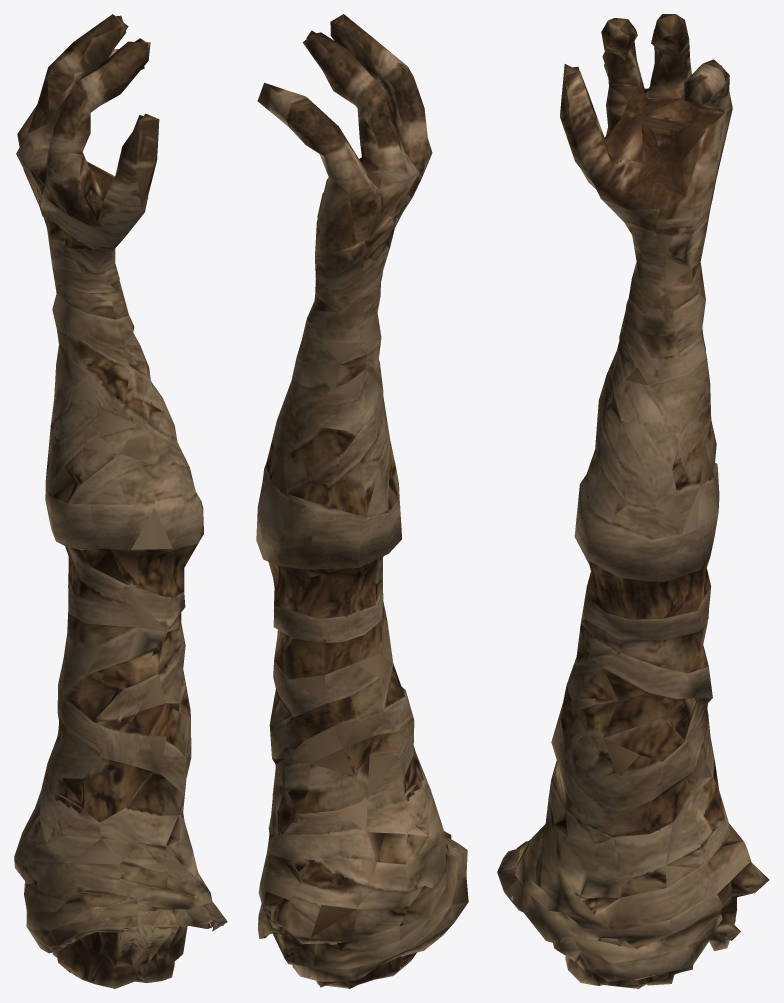
File: mummy_arm.glb
3 renders of one model, left to right at view 1: azimuth 30°, elevation 25°; view 2: azimuth 150°, elevation 25°; view 3: azimuth 270°, elevation 25°, orthographic. The views are drawn at different scales.
Visible parts, largest first — view 1: mummy_part_arm_LOD0; view 2: mummy_part_arm_LOD0; view 3: mummy_part_arm_LOD0.
Part boxes in pixels (x1=…): mummy_part_arm_LOD0: x1=14, y1=14, x2=227, y2=988; mummy_part_arm_LOD0: x1=256, y1=14, x2=468, y2=988; mummy_part_arm_LOD0: x1=497, y1=14, x2=769, y2=988.
Bounding box in the file's own units: 0.1363 × 0.7 × 0.1781.
1 material, 1 textured.
